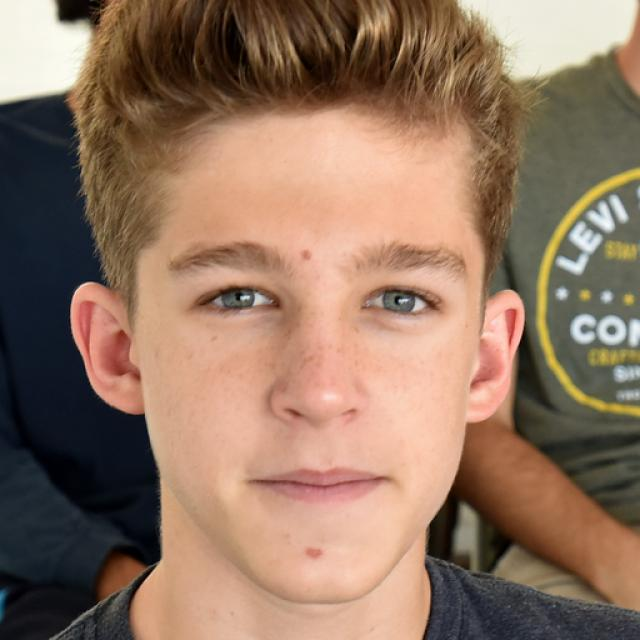Acne: (291, 239, 332, 271), (292, 538, 335, 568)
